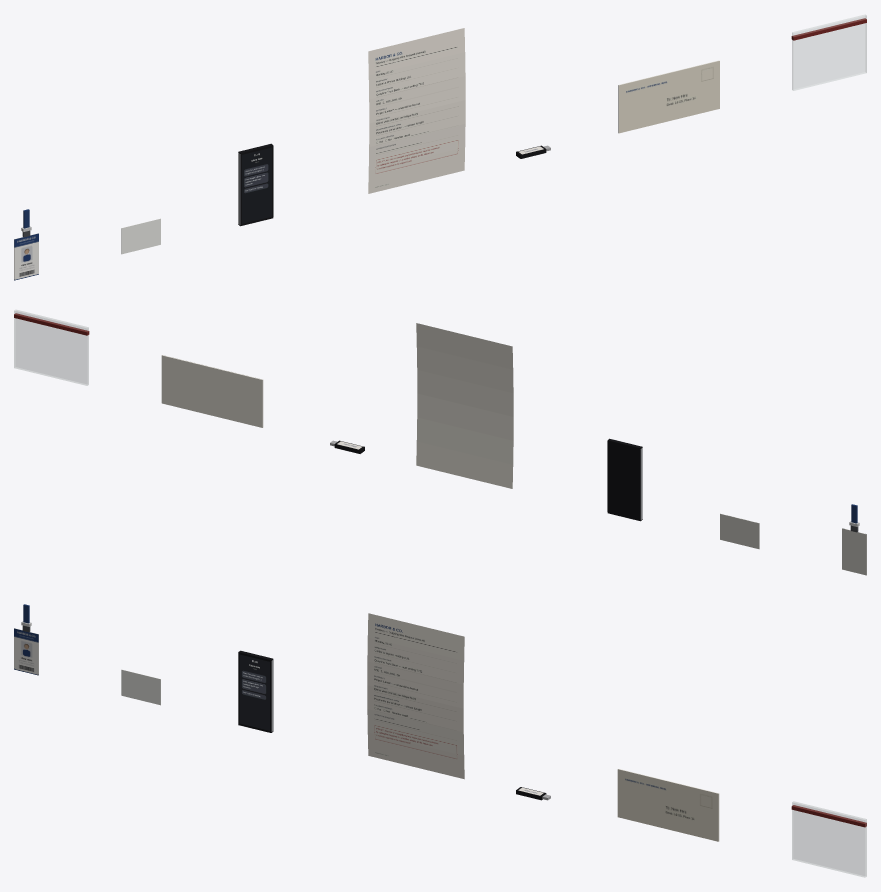
File: harbor_props.glb
3 renders of one model, top to bottom at view 1: azimuth 30°, elevation 25°; view 2: azimuth 150°, elevation 25°; view 3: azimuth 330°, elevation 25°, orthographic.
Parts seen in each view (by area): view 1: Wire_Form, Envelope_Front, Evidence_Bag, Maya_Phone_Screen, Courier_BlankCard_Print, Badge_Player_Print, Maya_Phone; view 2: Wire_Form, Envelope_Handheld, Evidence_Bag, Maya_Phone, Courier_BlankCard, Badge_Player; view 3: Wire_Form, Envelope_Front, Evidence_Bag, Maya_Phone_Screen, Courier_BlankCard_Print, Badge_Player_Print, Maya_Phone.
Part boxes in pixels (x1,y1,x2,y2): Wire_Form: (368,28,465,193); Envelope_Front: (619,61,719,133); Evidence_Bag: (791,14,866,90); Maya_Phone_Screen: (242,147,271,223); Courier_BlankCard_Print: (121,219,160,254); Badge_Player_Print: (14,233,38,280); Maya_Phone: (238,143,273,226); Wire_Form: (416,323,513,488); Envelope_Handheld: (161,355,263,427); Evidence_Bag: (14,310,89,385); Maya_Phone: (607,438,642,521); Courier_BlankCard: (720,513,759,549); Badge_Player: (842,528,866,575); Wire_Form: (367,613,464,779); Envelope_Front: (617,769,718,841); Evidence_Bag: (791,801,866,877); Maya_Phone_Screen: (239,654,269,730); Courier_BlankCard_Print: (121,670,160,705); Badge_Player_Print: (14,628,38,675); Maya_Phone: (238,650,273,732).
Bounding box in the file's own units: 1.86 × 0.297 × 0.018.
Materials: 16 (7 with a texture image).
